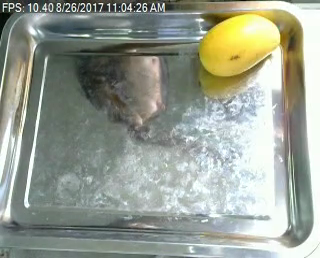Mango: (192, 13, 285, 80)
